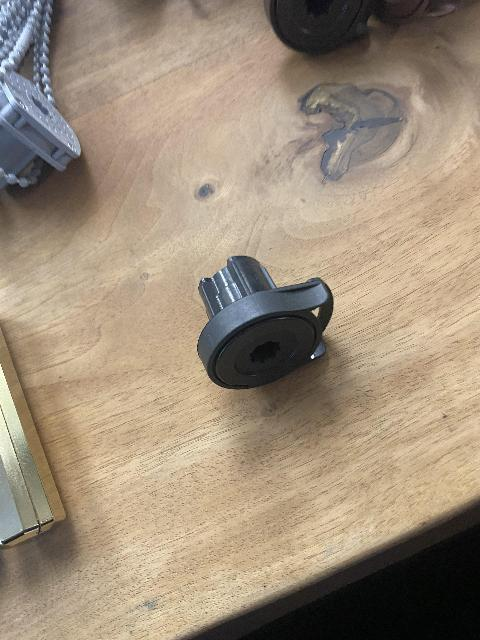Plastik: (190, 254, 341, 383)
